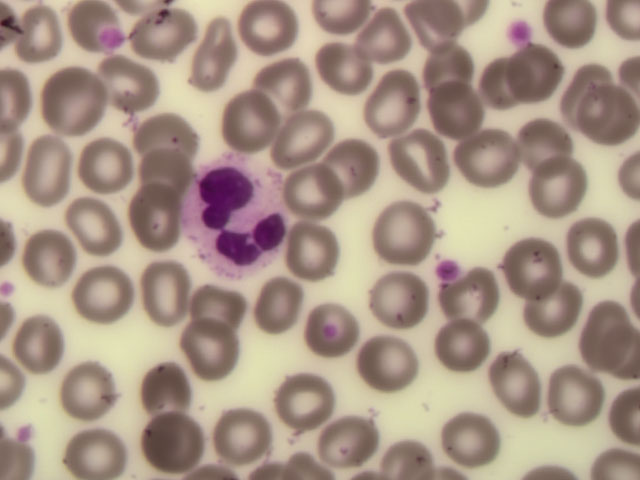Platelets: (101, 29, 136, 53), (432, 257, 460, 283), (506, 22, 535, 43), (1, 278, 15, 296), (19, 424, 32, 441)
RBC: (42, 69, 105, 129), (110, 58, 173, 118), (11, 9, 74, 69), (44, 4, 107, 64), (138, 6, 201, 66), (180, 25, 243, 85), (230, 3, 293, 63), (256, 45, 319, 105), (211, 88, 274, 148), (275, 107, 338, 167), (281, 159, 344, 219), (319, 140, 382, 200), (285, 225, 348, 285), (257, 275, 320, 335), (290, 302, 353, 362), (371, 277, 434, 337), (373, 204, 436, 264), (383, 131, 446, 191), (367, 83, 430, 143), (314, 45, 377, 105), (356, 8, 419, 68), (418, 38, 481, 98), (424, 82, 487, 142), (469, 53, 532, 113), (497, 39, 560, 99), (544, 2, 607, 62), (545, 59, 608, 119), (577, 93, 640, 153), (513, 108, 576, 168), (455, 128, 518, 188), (524, 157, 587, 217), (559, 214, 622, 274), (505, 236, 568, 296), (521, 277, 584, 337), (567, 302, 630, 362), (545, 367, 608, 427), (490, 352, 553, 412), (429, 324, 492, 384), (451, 275, 514, 335), (361, 338, 424, 398), (432, 403, 495, 463), (317, 416, 380, 476), (279, 370, 342, 430), (222, 403, 285, 463), (146, 412, 209, 472), (132, 360, 195, 420), (177, 333, 240, 393), (195, 281, 258, 341), (147, 257, 210, 317), (117, 193, 180, 253), (131, 157, 194, 217), (141, 108, 204, 168), (73, 132, 136, 192), (15, 136, 78, 196), (58, 198, 121, 258), (14, 225, 77, 285), (74, 266, 137, 326), (16, 312, 79, 372), (59, 357, 122, 417), (68, 420, 131, 480), (402, 1, 465, 60)
WBC: (181, 160, 290, 269)
